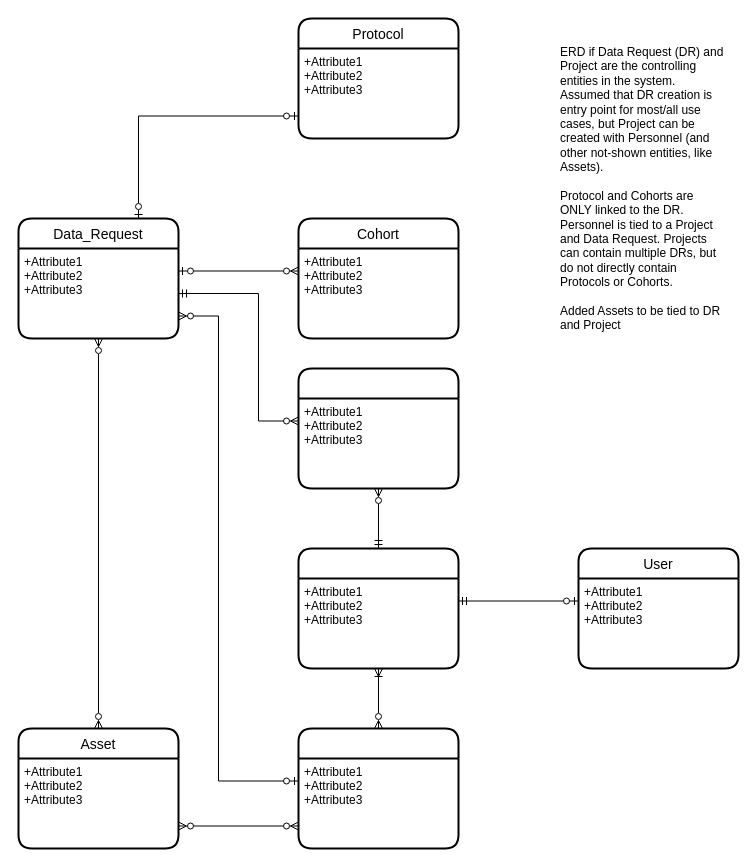
The diagram is 756 pixels wide and 866 high, and some of its shapes have lost their labels. The box of each missing label's shape, as (x1, y1, x2, y2) in pixels:
Data_Request_Access: (297, 367, 459, 489)
Personnel: (297, 547, 459, 669)
Project: (297, 727, 459, 849)
